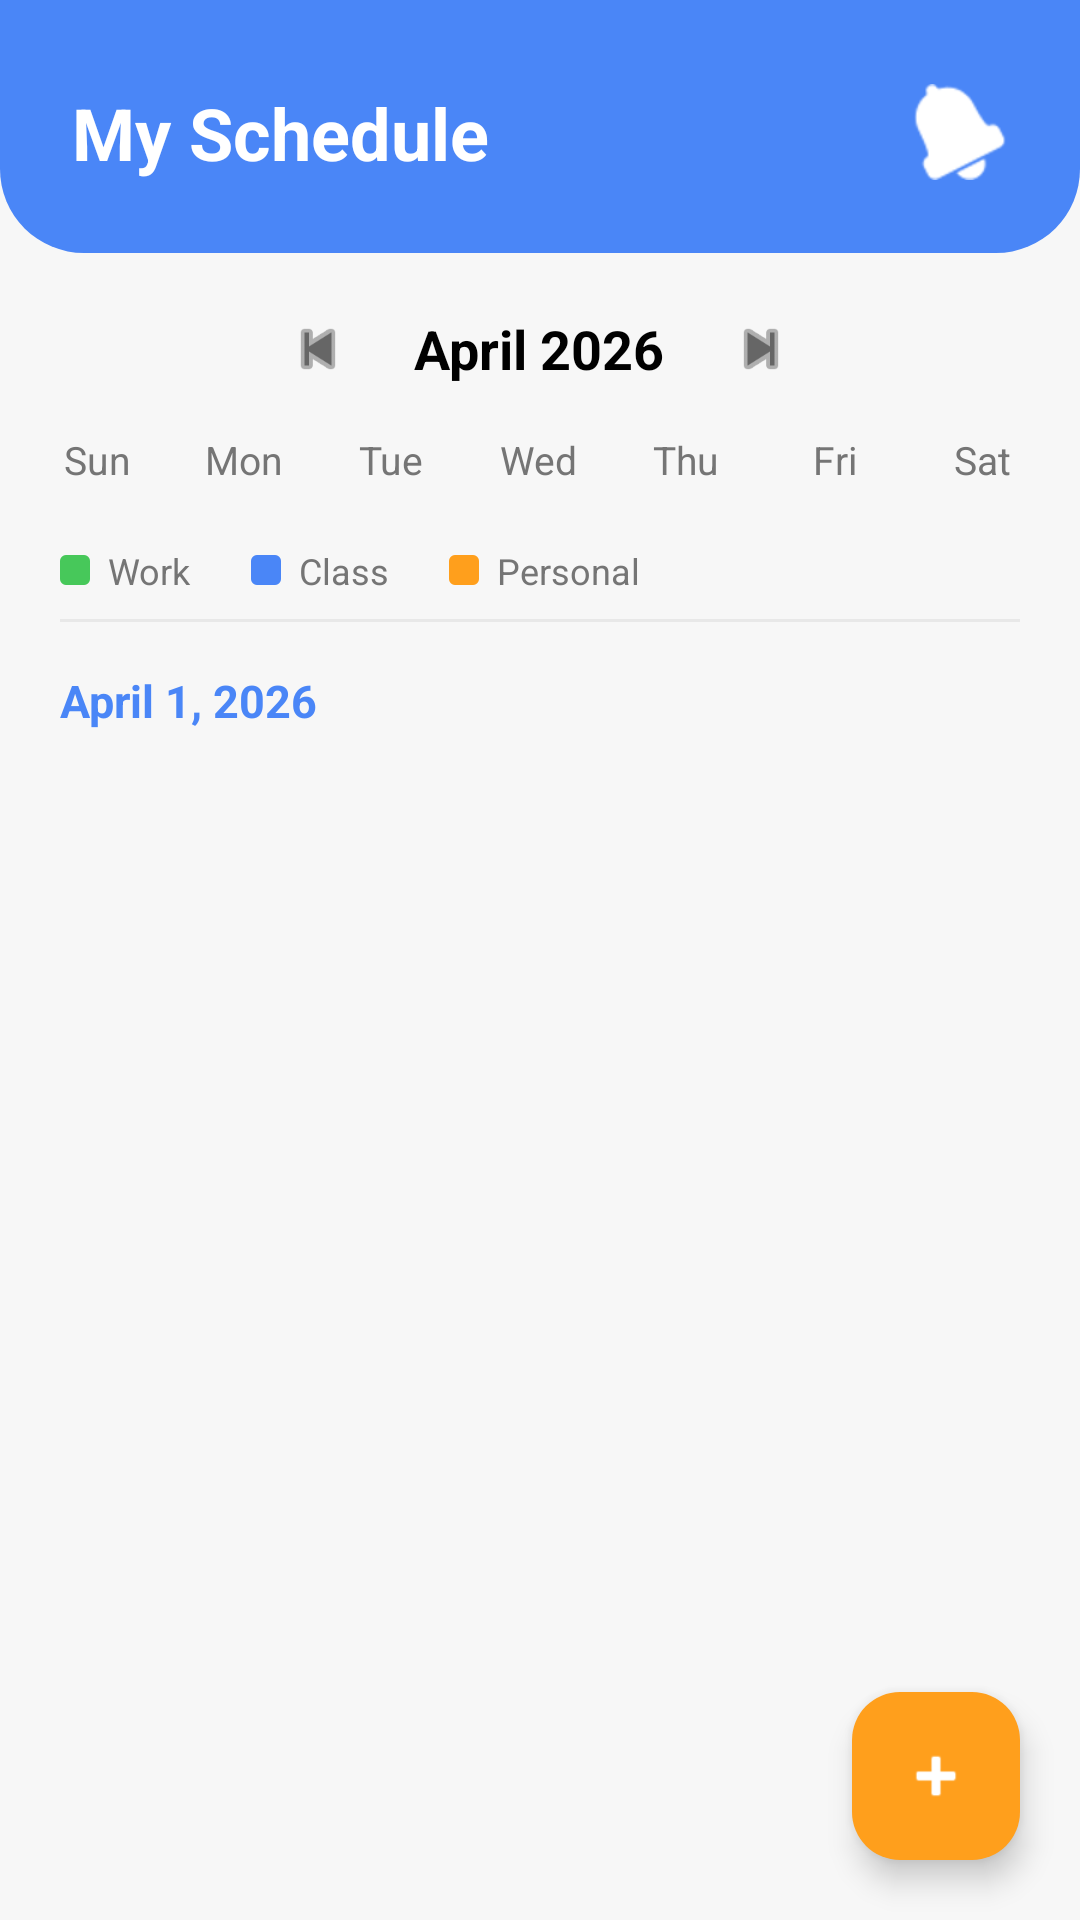

Icons on this 1080×1920 Android screen, each with its box as (x1, y1, x2, y2):
Add event: (852, 1692, 1020, 1860)
Next month: (744, 329, 778, 369)
Notifications: (915, 84, 1005, 180)
Previous month: (301, 329, 335, 369)
